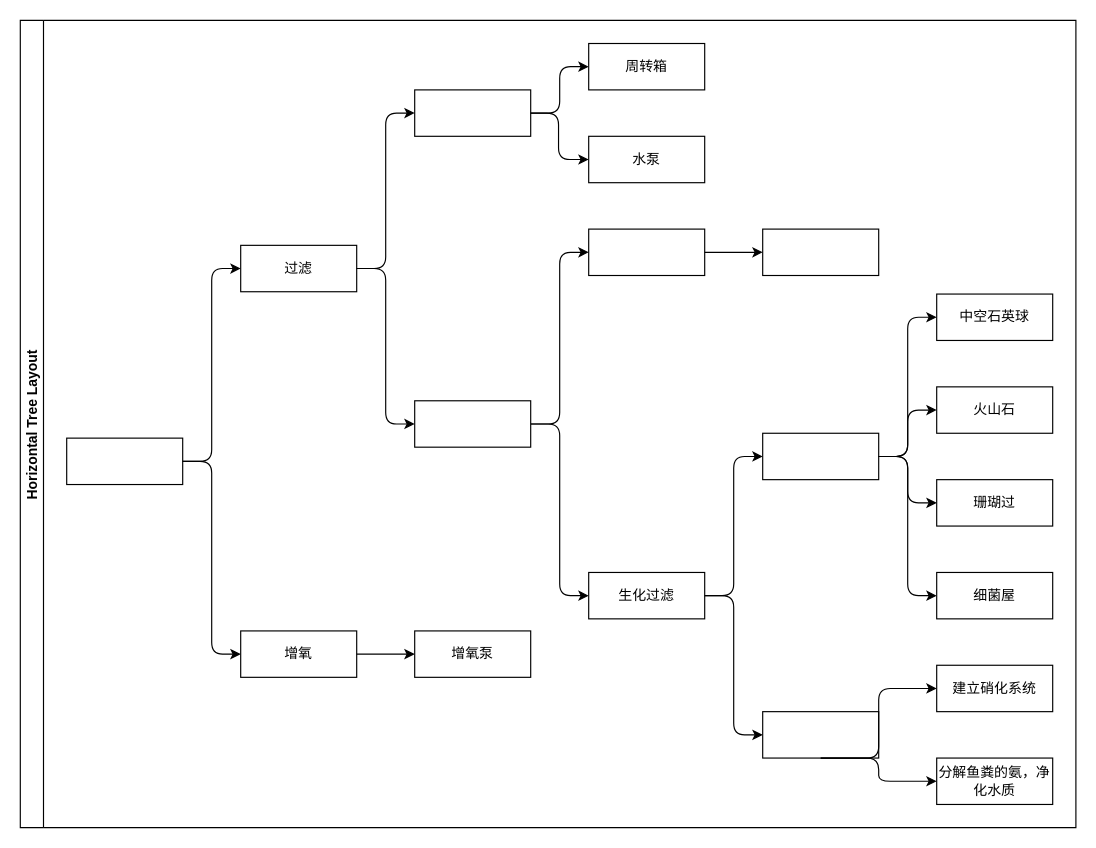
This 1096x848 diagram has some shape labels left out. Here are the shapes that lost their labels. From the top down, the centre of each, then its label:
At (472,112): "过滤装置".
At (646,252): "物理过滤".
At (820,252): "过滤棉".
At (472,423): "过滤系统".
At (124,461): "养鱼要点".
At (820,456): "滤材".
At (820,734): "提供硝化细菌环境".
